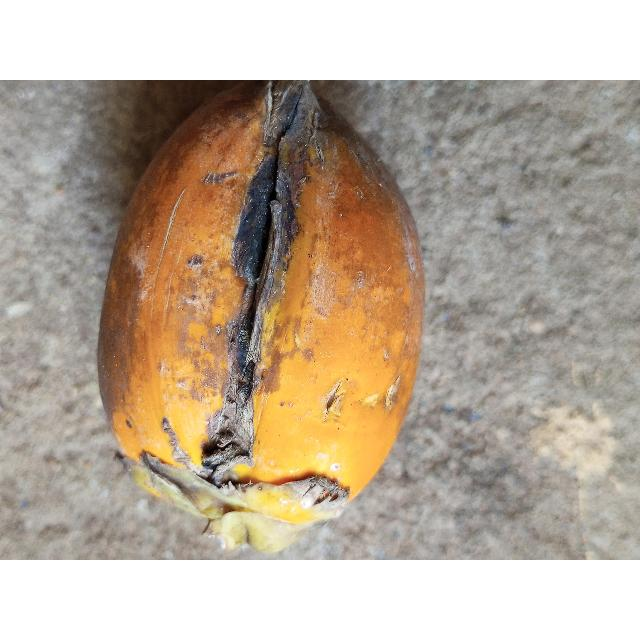damaged: (96, 80, 427, 555)
